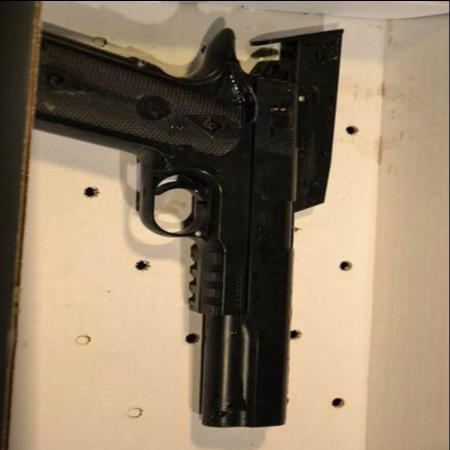Pistol: (40, 24, 294, 424)
